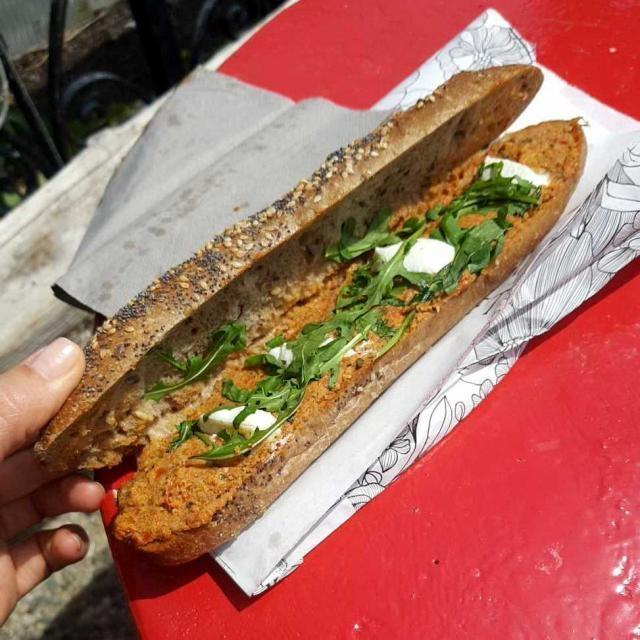bread: (54, 64, 587, 561)
cheese: (202, 150, 551, 448)
salad: (175, 168, 535, 490)
